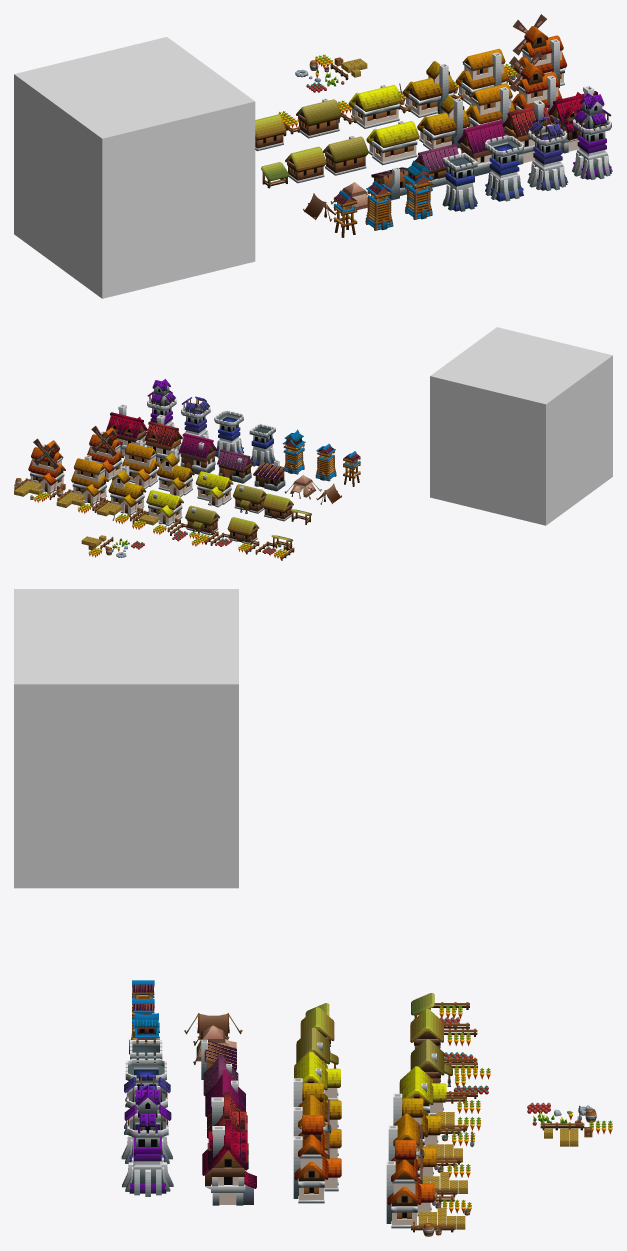
Rendered from village.glb.
3 renders of one model, top to bottom at view 1: azimuth 30°, elevation 25°; view 2: azimuth 150°, elevation 25°; view 3: azimuth 270°, elevation 25°, orthographic. The views are drawn at different scales.
Parts seen in each view (by area): view 1: Cube, tower_lvl7, tower_lvl6, farm_lvl7, tower_lvl5, farm_lvl5, farm_lvl4, farm_lvl6, farm_house_lvl5, farm_house_lvl7, farm_house_lvl4, tower_lvl4 (+16 smaller); view 2: Cube, farm_lvl7, farm_lvl6, farm_lvl5, farm_lvl4, farm_house_lvl7, farm_house_lvl6, house_lvl5, farm_lvl3, farm_house_lvl5, house_lvl6, house_lvl7 (+15 smaller); view 3: Cube, farm_lvl7, tower_lvl7, house_lvl7, farm_house_lvl7, farm_lvl6, farm_lvl4, farm_lvl5, farm_lvl3, farm_lvl2, farm_house_lvl4, tower_lvl6 (+7 smaller).
Part boxes in pixels (x1,y1,x2,y2): Cube: [14, 37, 255, 298]; tower_lvl7: [572, 93, 612, 179]; tower_lvl6: [527, 116, 568, 190]; farm_lvl7: [504, 14, 566, 91]; tower_lvl5: [485, 135, 523, 201]; farm_lvl5: [398, 61, 455, 117]; farm_lvl4: [337, 84, 401, 128]; farm_lvl6: [453, 49, 508, 105]; farm_house_lvl5: [417, 95, 470, 149]; farm_house_lvl7: [509, 51, 562, 118]; farm_house_lvl4: [366, 121, 419, 165]; tower_lvl4: [442, 152, 477, 211]; Cube: [430, 327, 612, 525]; farm_lvl7: [14, 438, 65, 502]; farm_lvl6: [56, 455, 108, 513]; farm_lvl5: [94, 465, 146, 524]; farm_lvl4: [132, 490, 183, 534]; farm_house_lvl7: [87, 426, 123, 480]; farm_house_lvl6: [122, 440, 159, 488]; house_lvl5: [179, 433, 217, 474]; farm_lvl3: [170, 505, 219, 546]; farm_house_lvl5: [157, 448, 194, 497]; house_lvl6: [144, 414, 182, 464]; house_lvl7: [106, 404, 147, 456]; Cube: [14, 589, 238, 888]; farm_lvl7: [386, 1124, 471, 1236]; tower_lvl7: [122, 1085, 173, 1196]; house_lvl7: [202, 1120, 256, 1205]; farm_house_lvl7: [293, 1099, 341, 1203]; farm_lvl6: [388, 1113, 470, 1196]; farm_lvl4: [399, 1066, 480, 1132]; farm_lvl5: [393, 1093, 475, 1164]; farm_lvl3: [410, 1039, 490, 1098]; farm_lvl2: [410, 1009, 477, 1062]; farm_house_lvl4: [294, 1051, 340, 1100]; tower_lvl6: [121, 1075, 172, 1163].
Bounding box in the file's own units: 8.17 × 2.57 × 5.32.
Materials: 4 (3 with a texture image).
